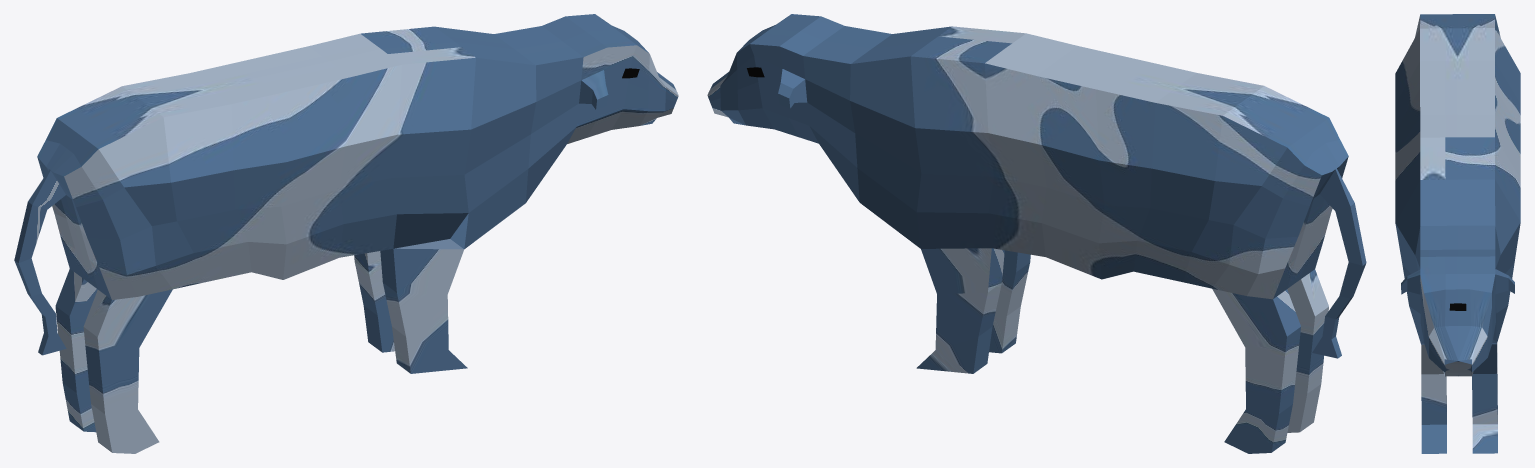
Rendered from VacaAzul.fbx.
3 renders of one model, left to right at view 1: azimuth 30°, elevation 25°; view 2: azimuth 150°, elevation 25°; view 3: azimuth 270°, elevation 25°, orthographic. The views are drawn at different scales.
Visible parts, largest first — view 1: Cube; view 2: Cube; view 3: Cube.
Part boxes in pixels (x1,y1,x2,y2): Cube: (14,14,678,453); Cube: (707,14,1366,453); Cube: (1395,14,1520,453).
Size of the model in its own units: 538 by 260 by 99.73.
2 materials, 1 textured.
